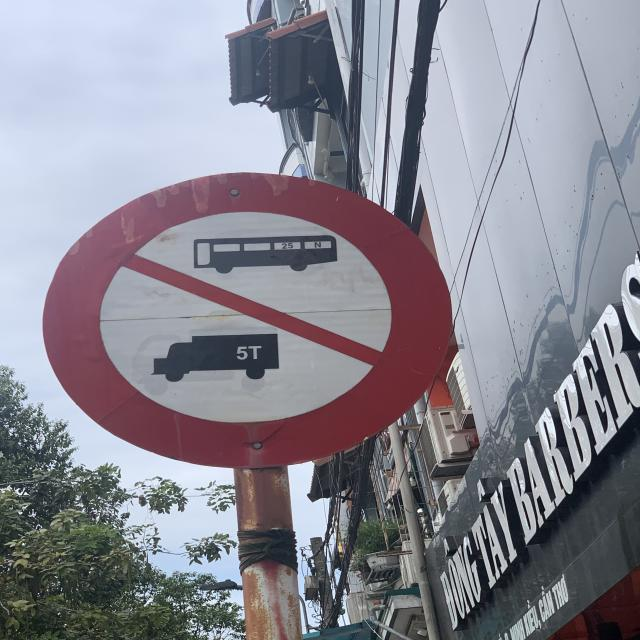Cam_XeTai_XeKhach: (44, 170, 449, 468)
